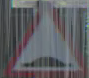Speed Breaker ahead: (9, 4, 78, 72)
